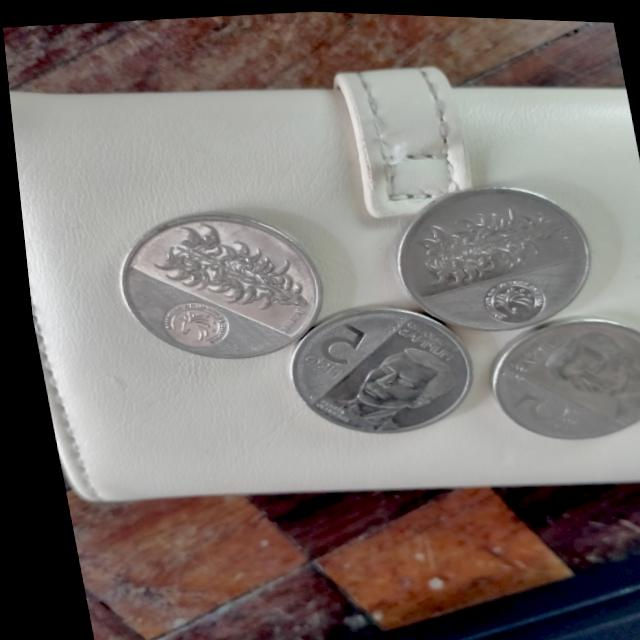5_New_Back: (132, 203, 306, 321), (396, 190, 573, 295)
5_New_Front: (492, 364, 596, 451), (285, 313, 368, 387)
